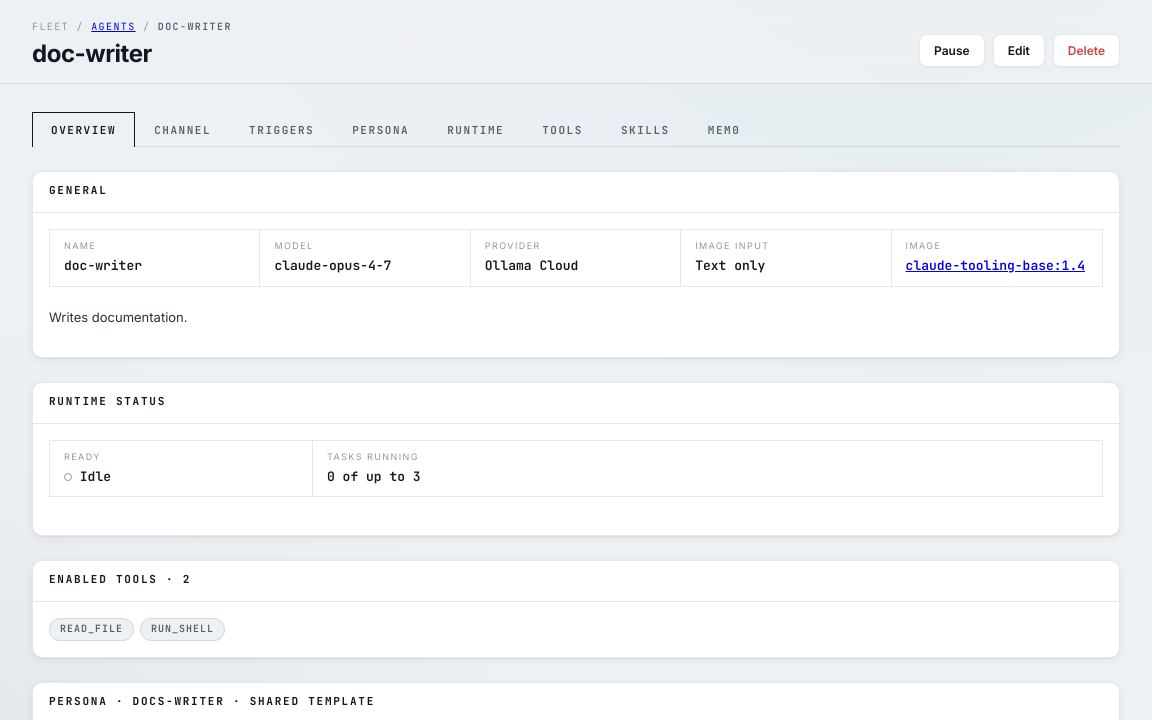
Scenario: AgentDetail › surfaces an error when delete fails and keeps the modal open
This screenshot has width=1152, height=720.
Open the delete modal.
Click the button "Delete".
click(1086, 50)  # box [1053,34,1120,67]
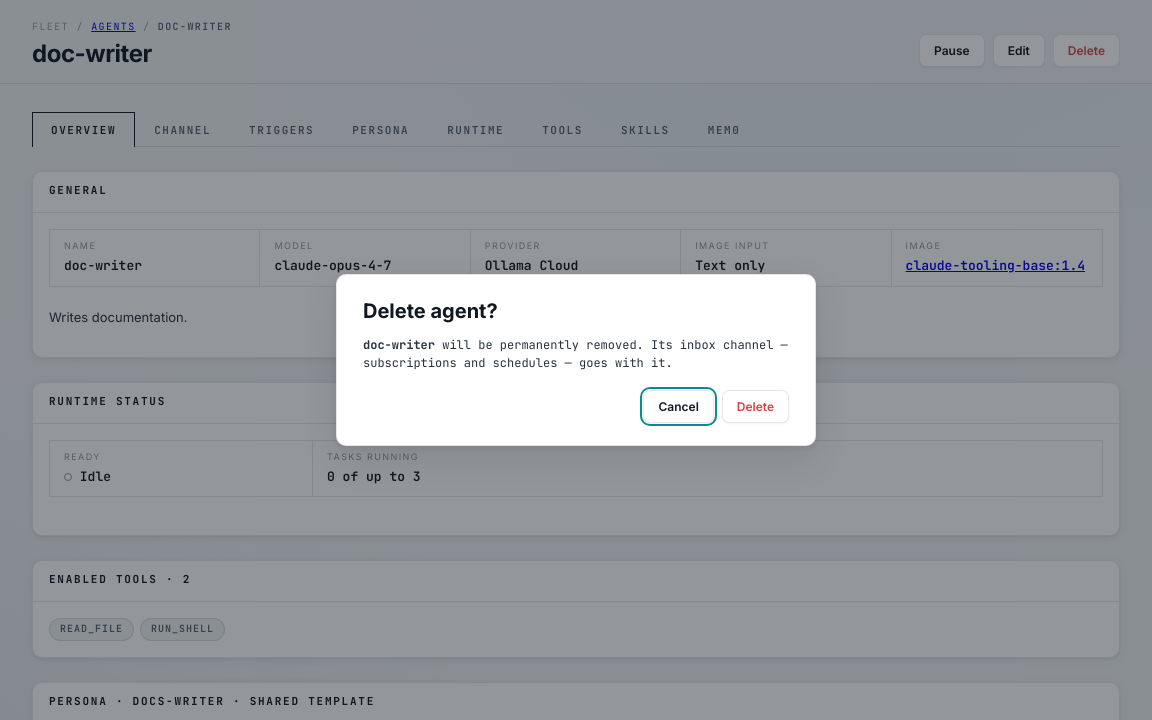
Click Delete inside the modal — should fail with 403.
Click the button "Delete".
click(755, 406)  # box [722,390,789,423]
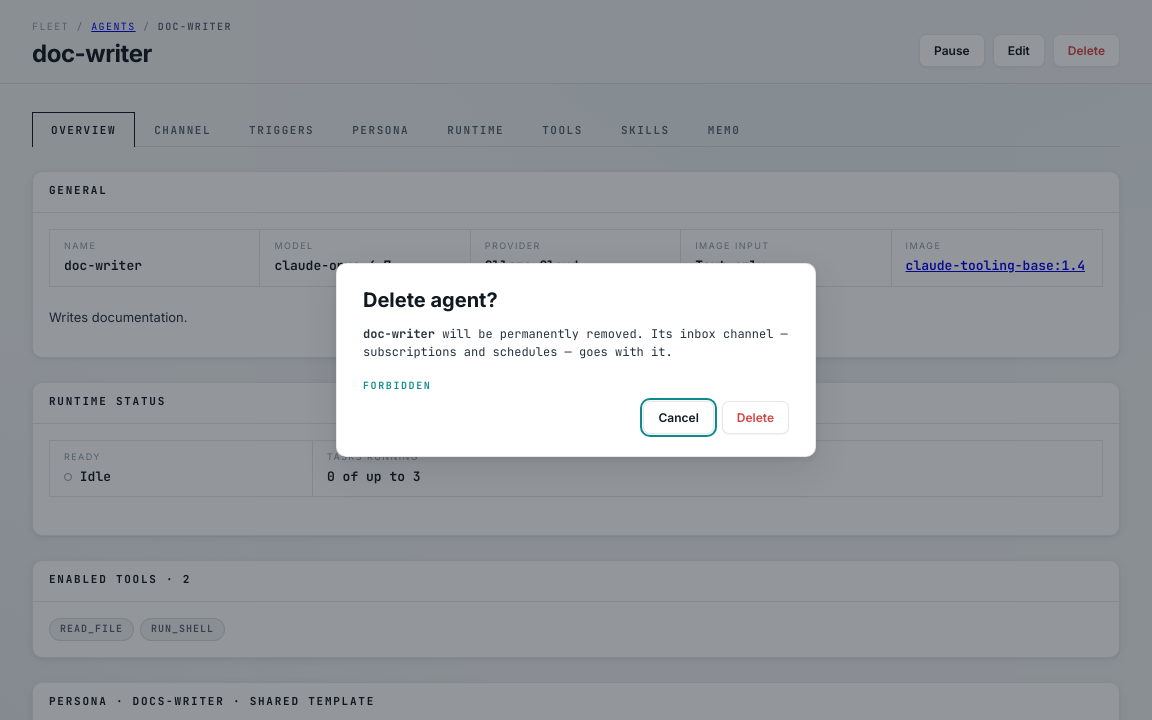
Now the dialog is shown
Now the text "forbidden" is shown, box [363,379,431,392]
